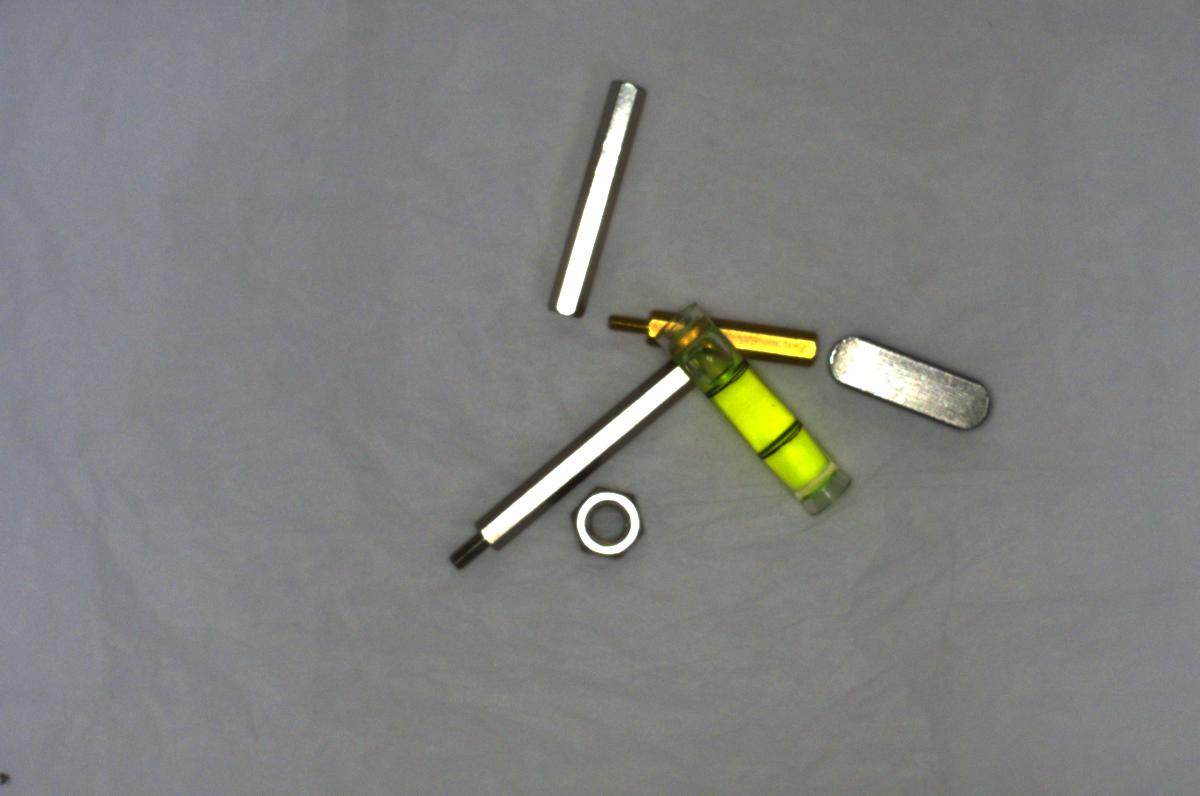Double hexagonal column: (533, 72, 657, 321)
Hexagon nut: (555, 481, 655, 569)
Hexagon pillar: (597, 301, 824, 372)
Hexagonal steel column: (443, 353, 698, 576)
Horizontal bubble: (666, 303, 855, 522)
Keybar: (820, 328, 1014, 437)
